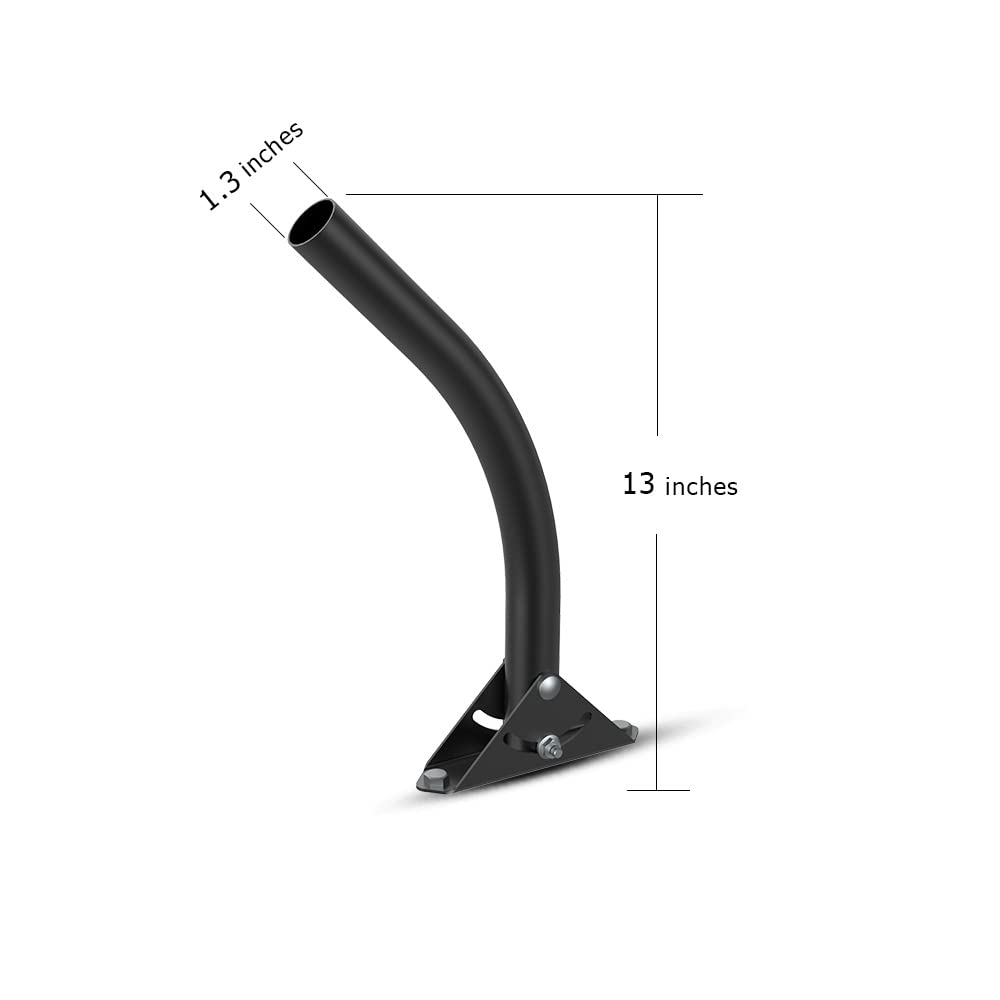inches: (667, 476, 737, 495)
